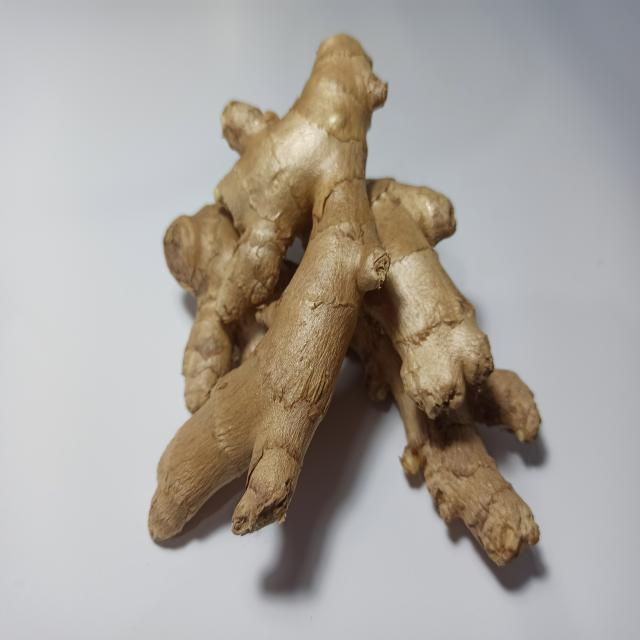ginger: (158, 48, 540, 562)
